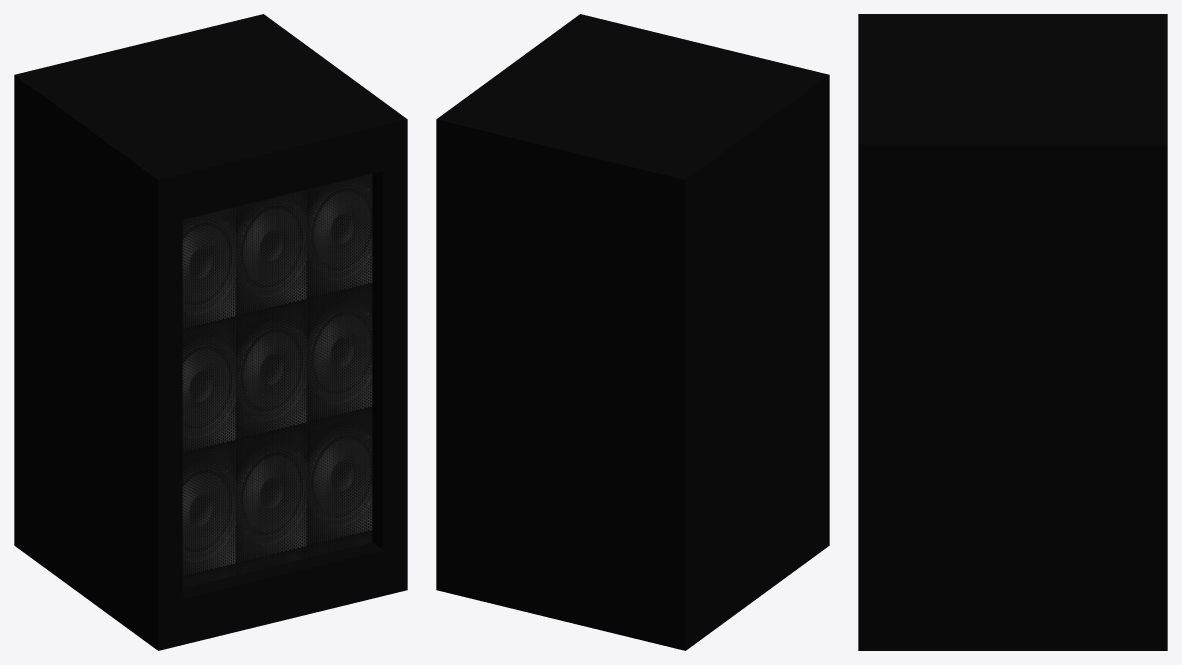
The model's file is Altavoz.fbx.
3 renders of one model, left to right at view 1: azimuth 30°, elevation 25°; view 2: azimuth 150°, elevation 25°; view 3: azimuth 270°, elevation 25°, orthographic. The views are drawn at different scales.
Visible parts, largest first — view 1: Cube; view 2: Cube; view 3: Cube.
Boxes of the visible parts, x1,y1,x2,y2 form: Cube: (14, 14, 407, 650); Cube: (436, 14, 829, 650); Cube: (858, 14, 1167, 650).
Bounding box in the file's own units: 128 × 231 × 128.
2 materials, 1 textured.
